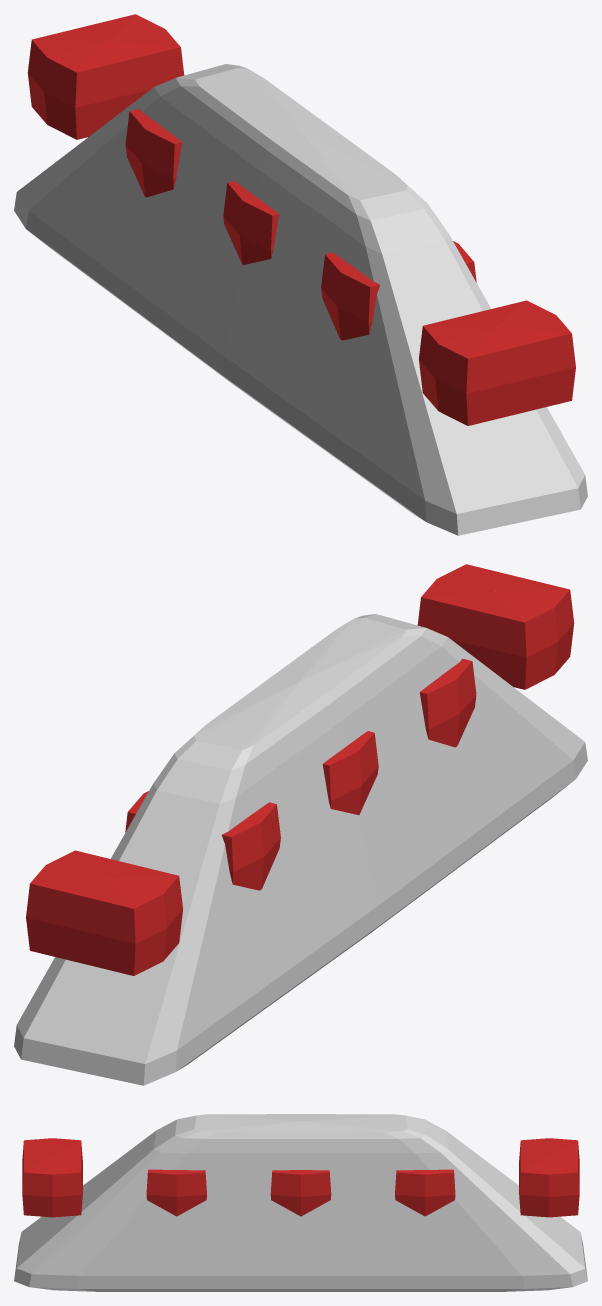
Rendered from s-barrier.glb.
3 renders of one model, top to bottom at view 1: azimuth 30°, elevation 25°; view 2: azimuth 150°, elevation 25°; view 3: azimuth 270°, elevation 25°, orthographic. The views are drawn at different scales.
Parts seen in each view (by area): view 1: p; view 2: p; view 3: p.
Boxes of the visible parts, box(x1,y1,x2,y2) form: p: box(14, 14, 587, 535); p: box(14, 564, 587, 1085); p: box(14, 1114, 587, 1291).
Size of the model in its own units: 0.5534 by 0.8 by 2.77.
